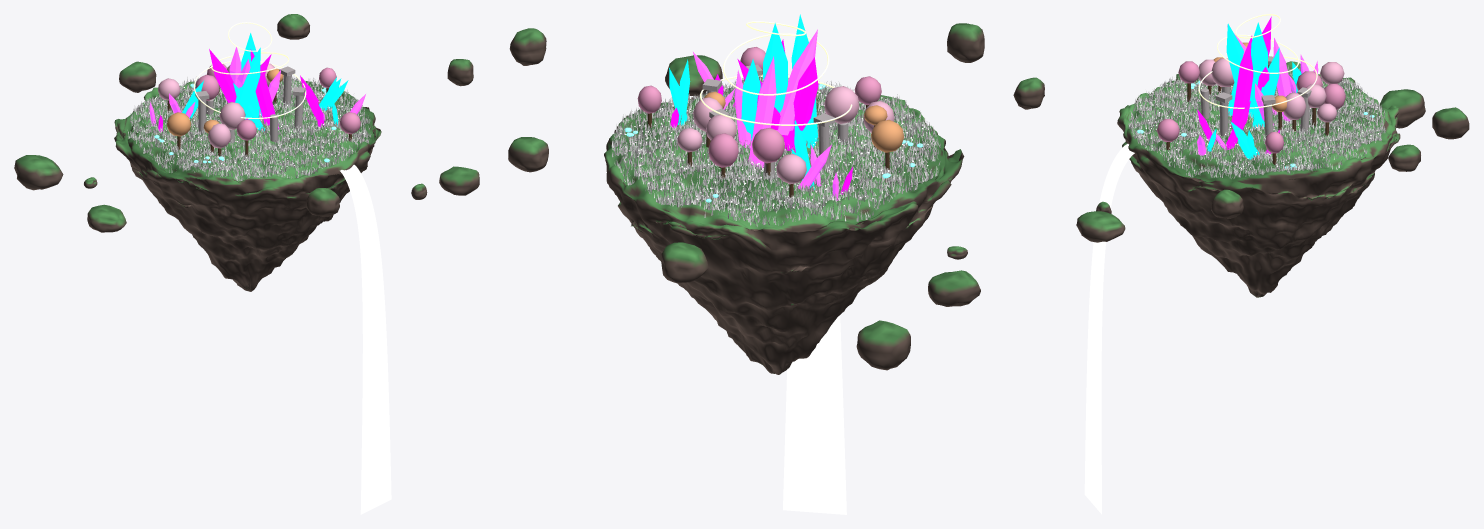
The model's file is isla.glb.
3 renders of one model, left to right at view 1: azimuth 30°, elevation 25°; view 2: azimuth 150°, elevation 25°; view 3: azimuth 270°, elevation 25°, orthographic. The views are drawn at different scales.
Visible parts, largest first — view 1: Isla, Hierba, Cascada, RocaFlotante.002, RocaFlotante.004, RocaFlotante.001, RocaFlotante.008, RocaFlotante.005, Cristal.005, RocaFlotante.003, Flores, Cristal.008 (+3 smaller); view 2: Isla, Hierba, Cascada, RocaFlotante.002, RocaFlotante.001, RocaFlotante.008, RocaFlotante.005, Cristal.003, RocaFlotante.003, Cristal.002, RocaFlotante.004, CristalCentral (+15 smaller); view 3: Isla, Hierba, Cascada, RocaFlotante.004, RocaFlotante.002, RocaFlotante.001, Cristal.008, CristalCentral, RocaFlotante.005, RocaFlotante.006, Flores, RocaFlotante.003 (+4 smaller).
Part boxes in pixels (left/top/right/bottom): Isla: left=114, top=79, right=381, bottom=291; Hierba: left=127, top=75, right=371, bottom=180; Cascada: left=340, top=164, right=391, bottom=514; RocaFlotante.002: left=14, top=155, right=63, bottom=190; RocaFlotante.004: left=439, top=166, right=479, bottom=195; RocaFlotante.001: left=119, top=61, right=156, bottom=92; RocaFlotante.008: left=87, top=204, right=126, bottom=232; RocaFlotante.005: left=306, top=188, right=340, bottom=216; Cristal.005: left=235, top=47, right=260, bottom=119; RocaFlotante.003: left=277, top=14, right=309, bottom=39; Flores: left=136, top=79, right=364, bottom=176; Cristal.008: left=250, top=49, right=279, bottom=129; Isla: left=604, top=76, right=964, bottom=374; Hierba: left=611, top=76, right=940, bottom=226; Cascada: left=783, top=315, right=846, bottom=514; RocaFlotante.002: left=856, top=320, right=910, bottom=370; RocaFlotante.001: left=661, top=242, right=708, bottom=283; RocaFlotante.008: left=928, top=270, right=980, bottom=306; RocaFlotante.005: left=947, top=23, right=984, bottom=62; Cristal.003: left=776, top=29, right=817, bottom=144; RocaFlotante.003: left=508, top=137, right=548, bottom=172; Cristal.002: left=748, top=56, right=776, bottom=168; RocaFlotante.004: left=665, top=55, right=722, bottom=96; CristalCentral: left=763, top=23, right=787, bottom=112; Isla: left=1117, top=61, right=1400, bottom=297; Hierba: left=1128, top=65, right=1386, bottom=178; Cascada: left=1084, top=143, right=1134, bottom=514; RocaFlotante.004: left=1076, top=211, right=1125, bottom=242; RocaFlotante.002: left=1380, top=89, right=1425, bottom=128; RocaFlotante.001: left=1432, top=107, right=1469, bottom=139; Cristal.008: left=1231, top=35, right=1253, bottom=127; CristalCentral: left=1248, top=22, right=1267, bottom=118; RocaFlotante.005: left=1013, top=77, right=1044, bottom=109; RocaFlotante.006: left=1211, top=189, right=1243, bottom=218; Flores: left=1135, top=69, right=1379, bottom=171; RocaFlotante.003: left=1388, top=144, right=1420, bottom=171.
Bounding box in the file's own units: 17.74 × 19.67 × 17.67.
